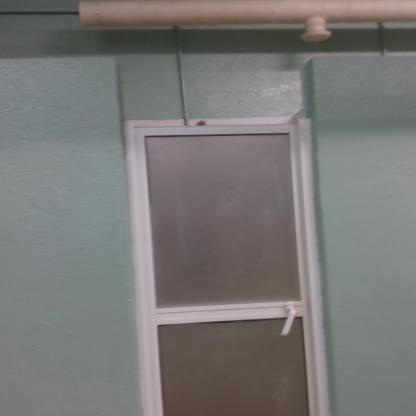closed: (99, 85, 341, 394)
